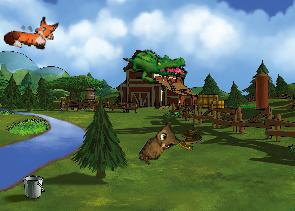crocodile: (122, 40, 189, 90)
fox: (3, 11, 59, 53)
owl: (136, 119, 185, 173)
